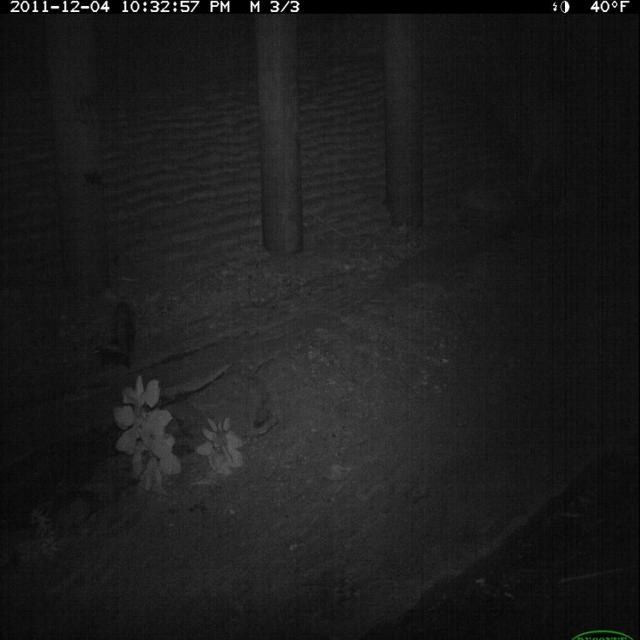skunk: (86, 294, 141, 382)
